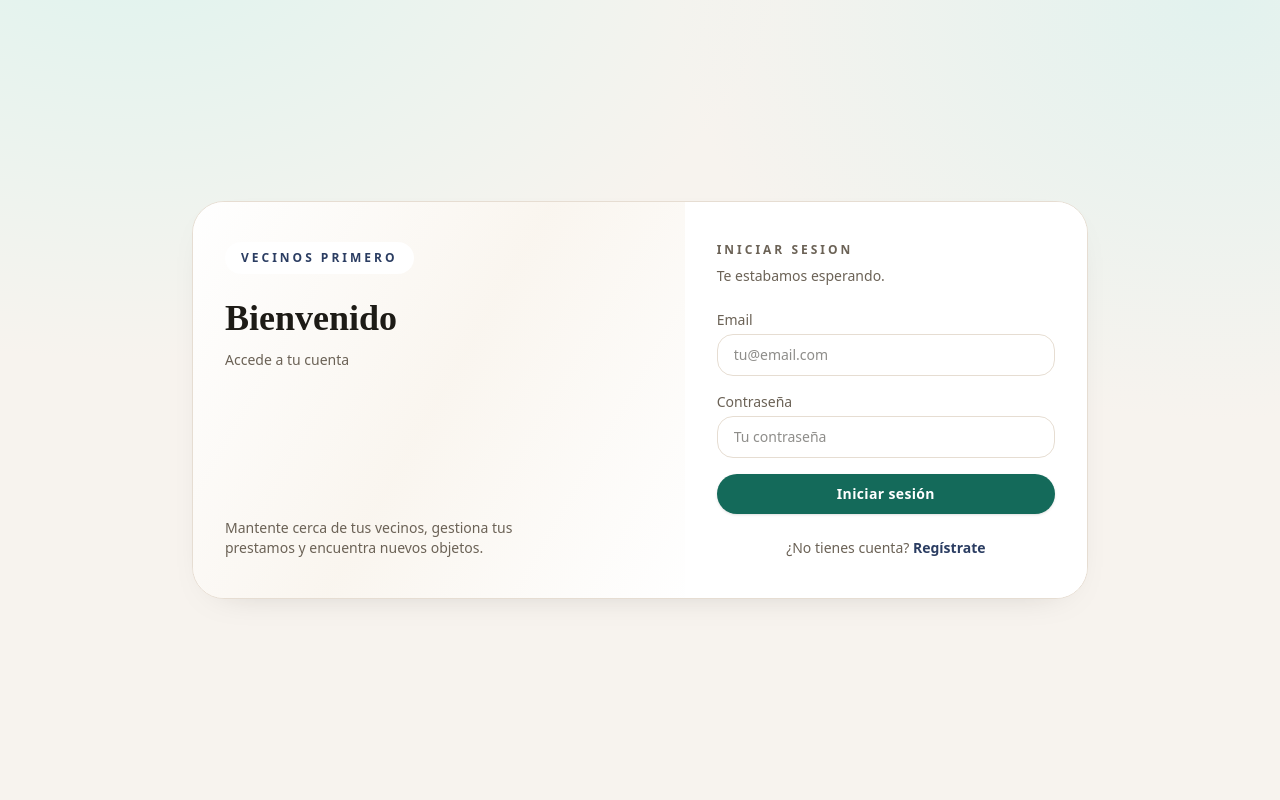
LoginPage › muestra error cuando las credenciales son inválidas
Type "malo@a.com" into the field labelled "Email" at point(886, 355), box [717,334,1055,376]
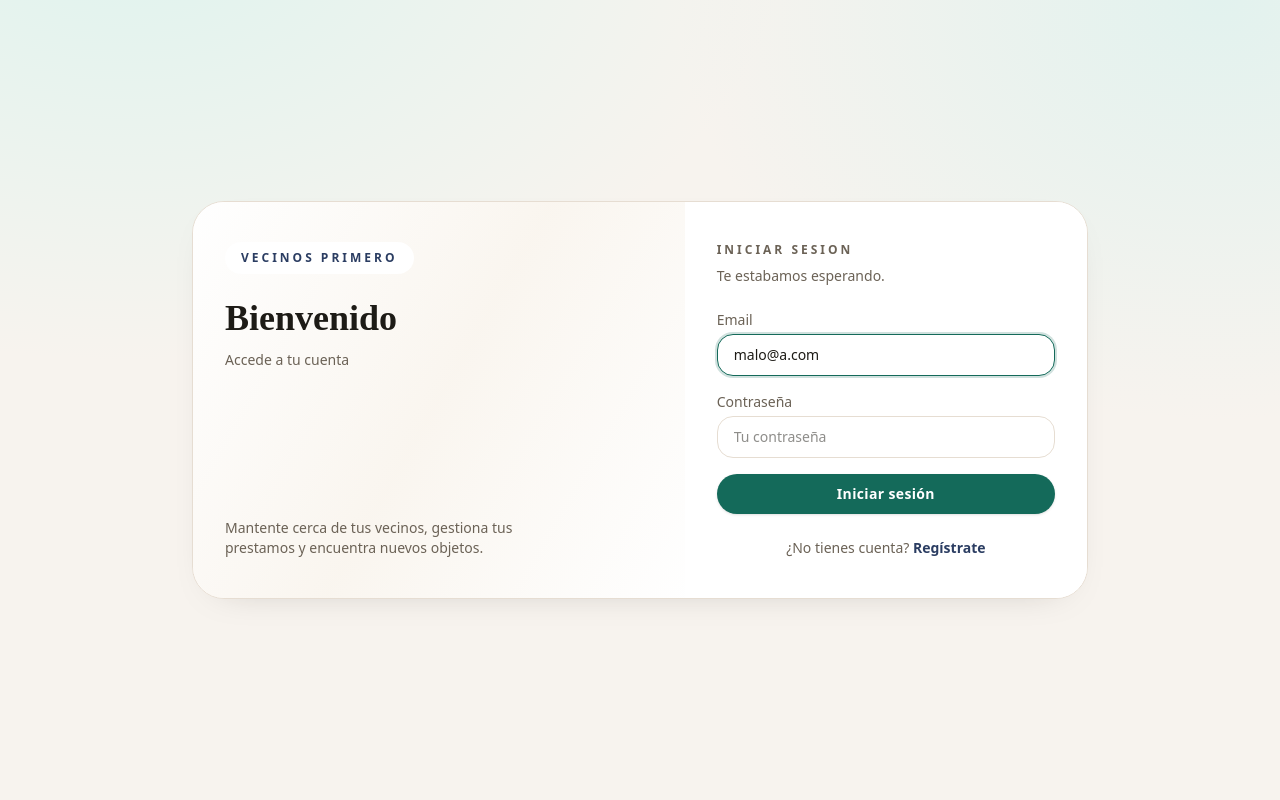
Type "wrongpass" into the password field labelled "Contraseña" at point(886, 437), box [717,416,1055,458]
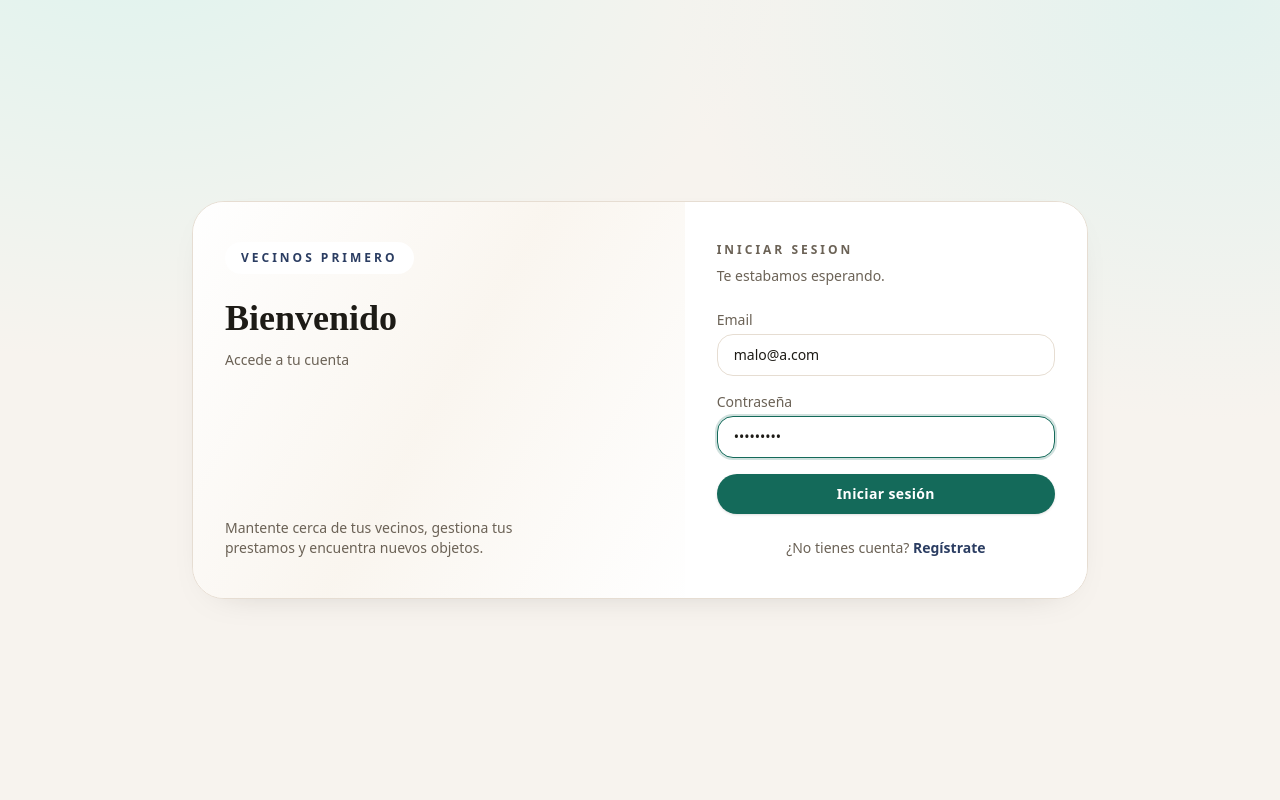
Click the button "Iniciar sesión" at point(886, 494), box [717,474,1055,514]
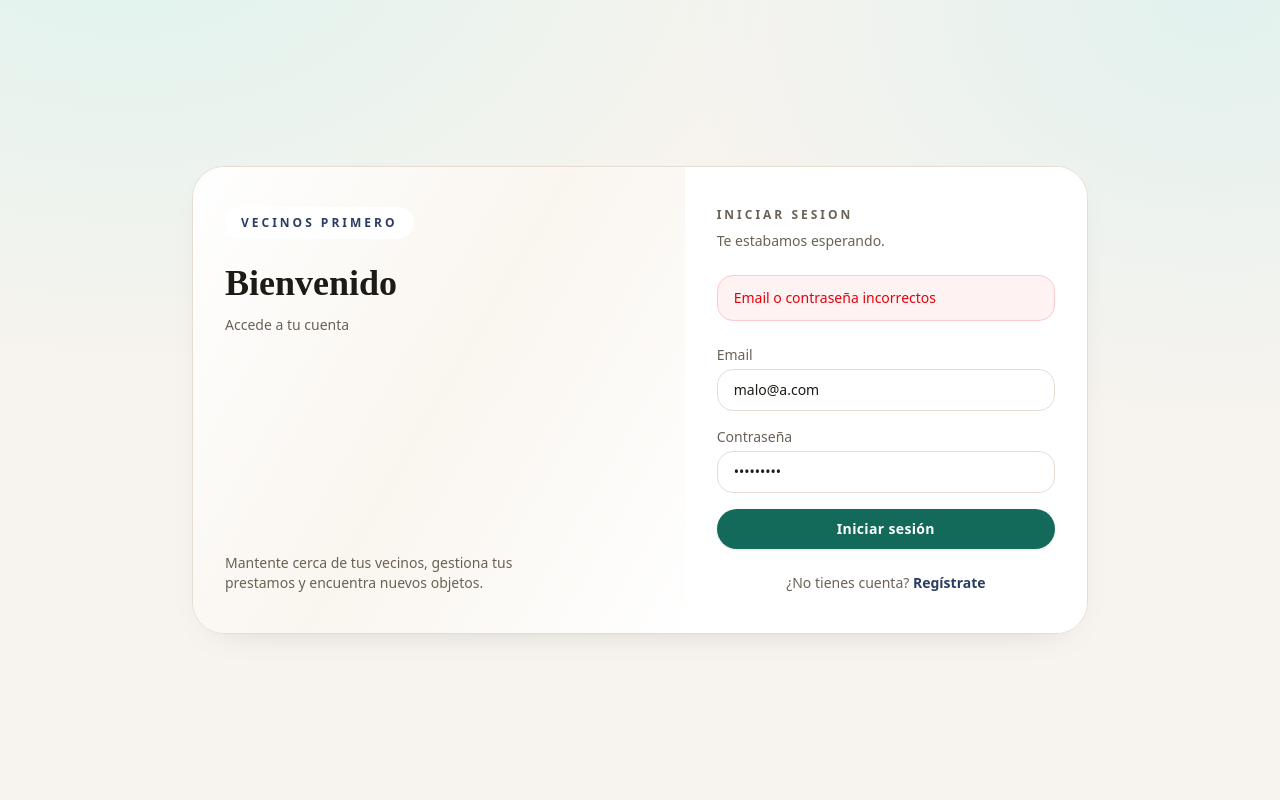
Expected: the text "Email o contraseña incorrectos" is shown, [717,275,1055,321]
